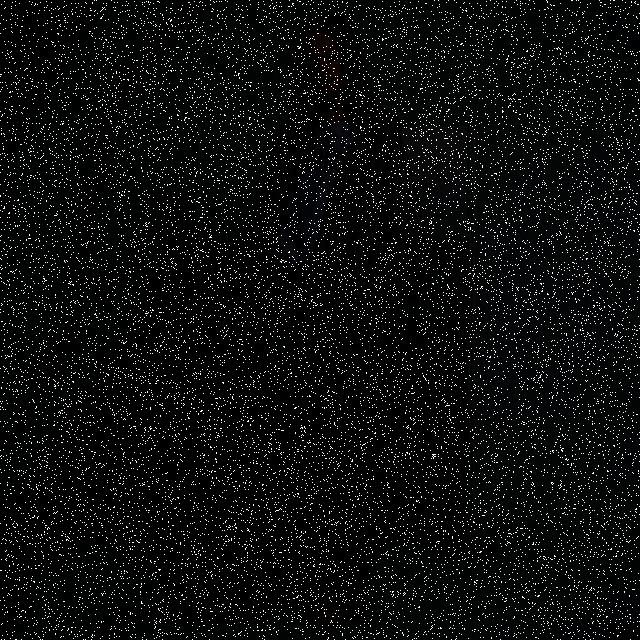dress: (205, 248, 402, 636)
